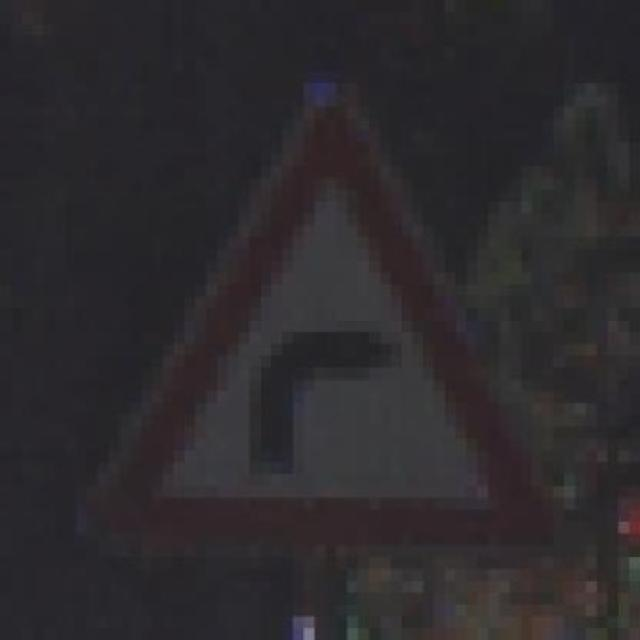Dangerous Rright Curve Ahead: (76, 83, 542, 557)
